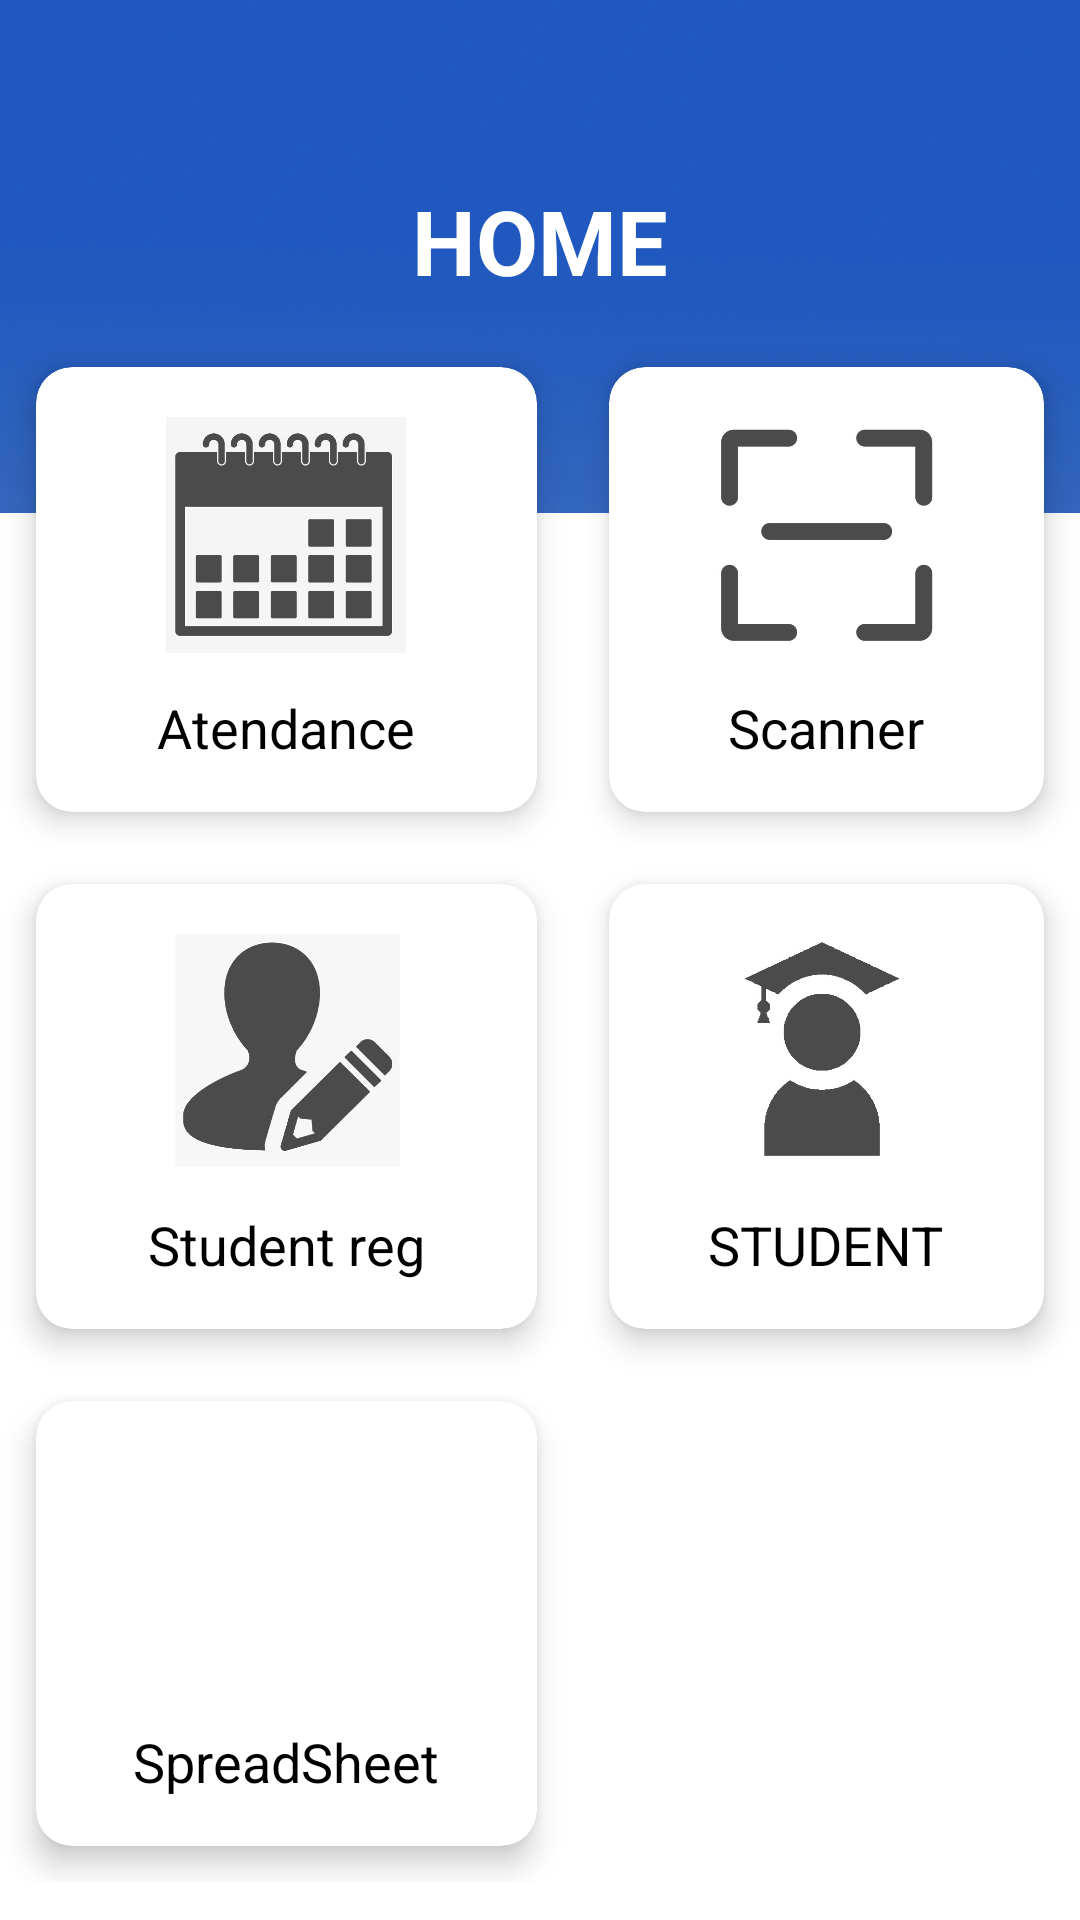

Named icons in this screenshot (1080w x 1920h) and their centers, (x,y):
calendar: (283,534)
